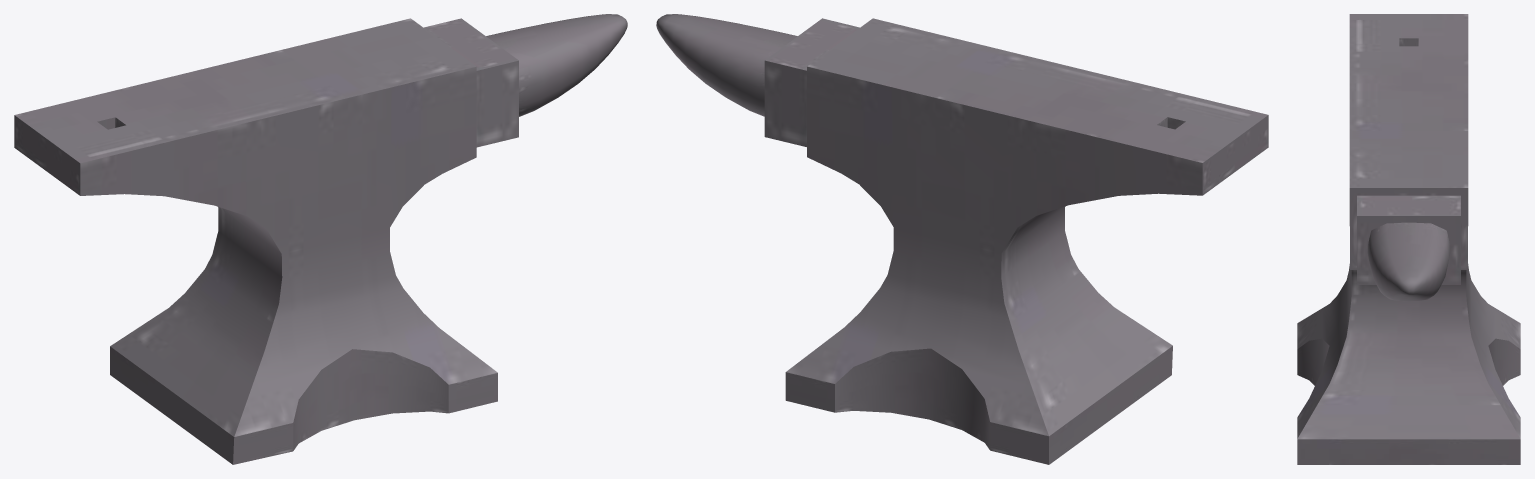
File: prop-qp-anvil.glb
The picture shows the model from 3 angles, left to right: view 1: azimuth 30°, elevation 25°; view 2: azimuth 150°, elevation 25°; view 3: azimuth 270°, elevation 25°; orthographic projection. The views are drawn at different scales.
Visible parts, largest first — view 1: Cube_025; view 2: Cube_025; view 3: Cube_025.
Boxes of the visible parts, x1,y1,x2,y2 form: Cube_025: (14,14,627,464); Cube_025: (656,14,1268,464); Cube_025: (1297,14,1520,464).
Bounding box in the file's own units: 1.08 × 0.556 × 0.4016.
Materials: 1 (1 with a texture image).
